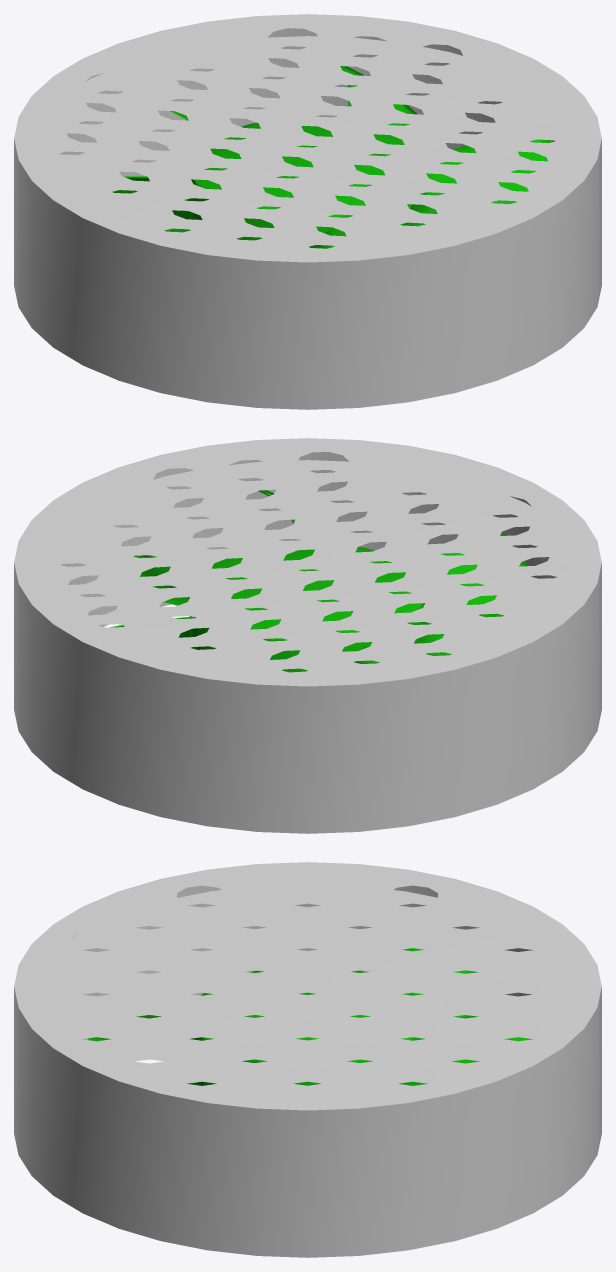
The model's file is cooler.fbx.
The picture shows the model from 3 angles, top to bottom: view 1: azimuth 30°, elevation 25°; view 2: azimuth 150°, elevation 25°; view 3: azimuth 270°, elevation 25°; orthographic projection.
Parts seen in each view (by area): view 1: cap, vent; view 2: cap, vent; view 3: cap, vent.
Part boxes in pixels (<box>): cap: <box>14,14,601,409</box>; vent: <box>112,66,551,248</box>; cap: <box>14,438,601,833</box>; vent: <box>110,490,533,672</box>; cap: <box>14,862,601,1257</box>; vent: <box>88,948,532,1085</box>.
Bounding box in the file's own units: 268 × 75.01 × 268.
